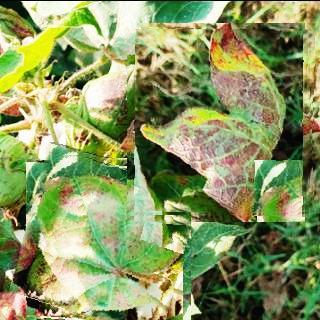leaf spot: (127, 28, 314, 215), (17, 150, 191, 320)
